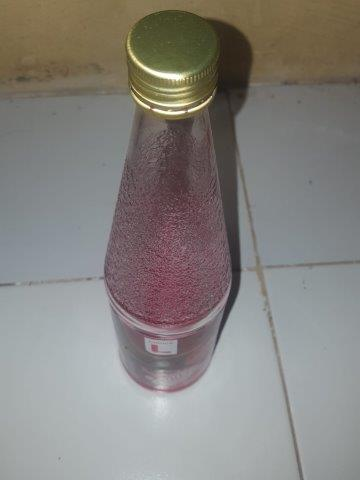botolkaca: (102, 12, 235, 390)
